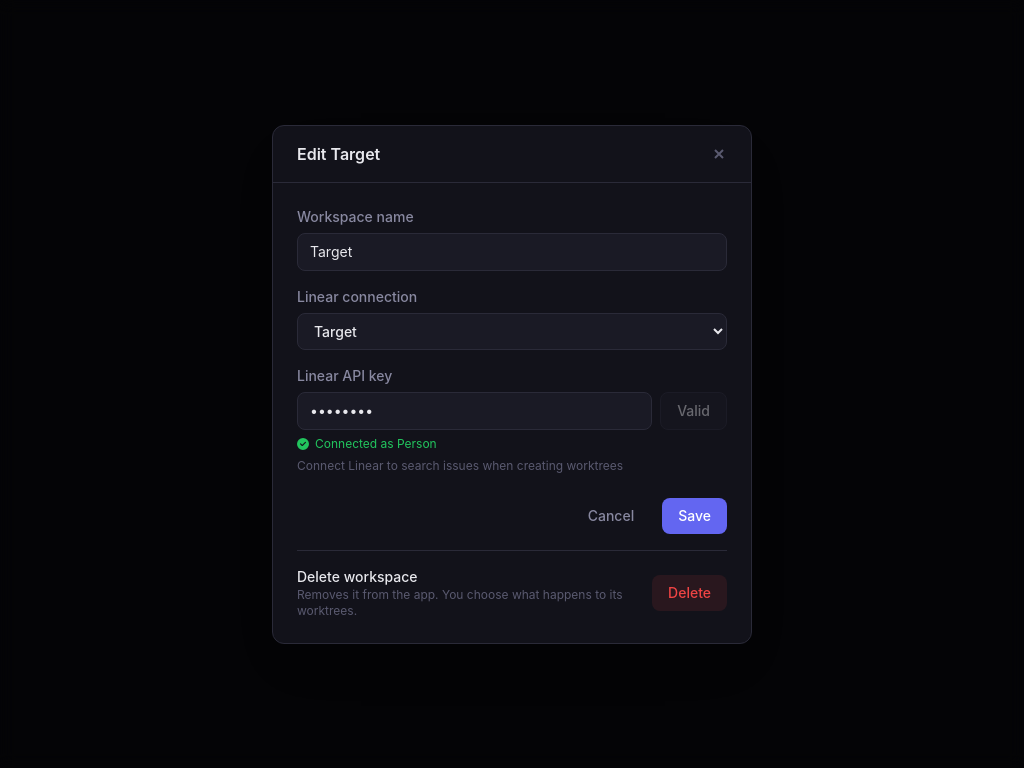
it: workspace Linear connections › does not save an invalid replacement
This screenshot has width=1024, height=768.
Select "my-org — Default, Source" in the dropdown at (512, 331), box [297, 312, 727, 350]
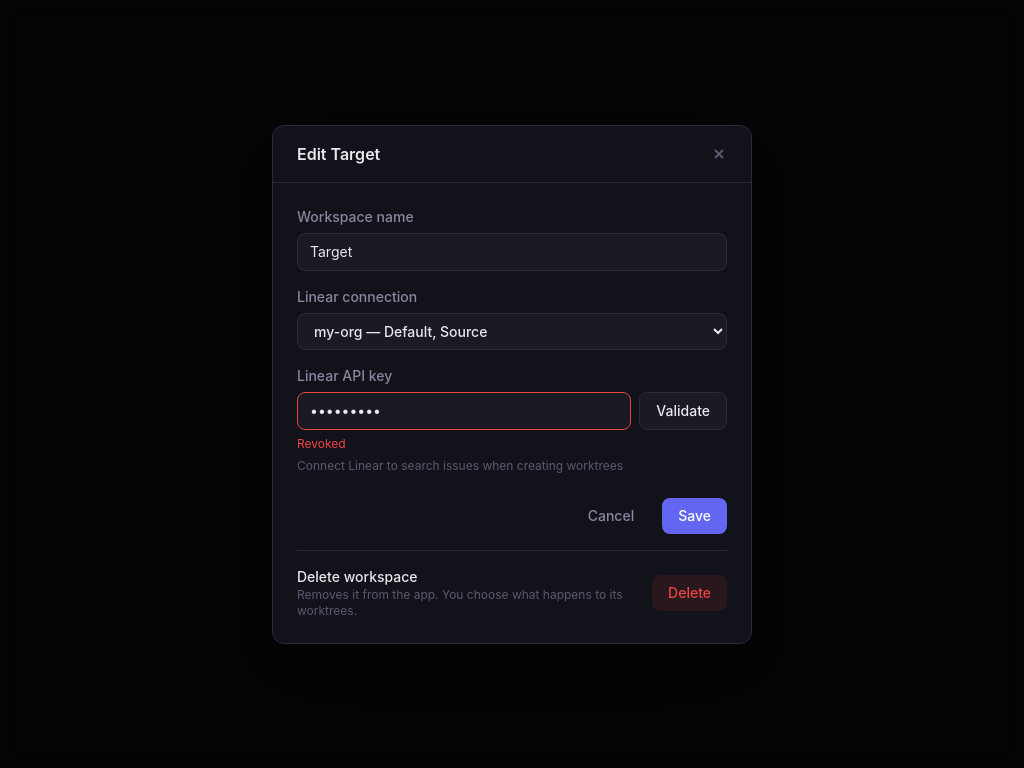
Click the button "Save" at (695, 516), box [662, 498, 727, 534]
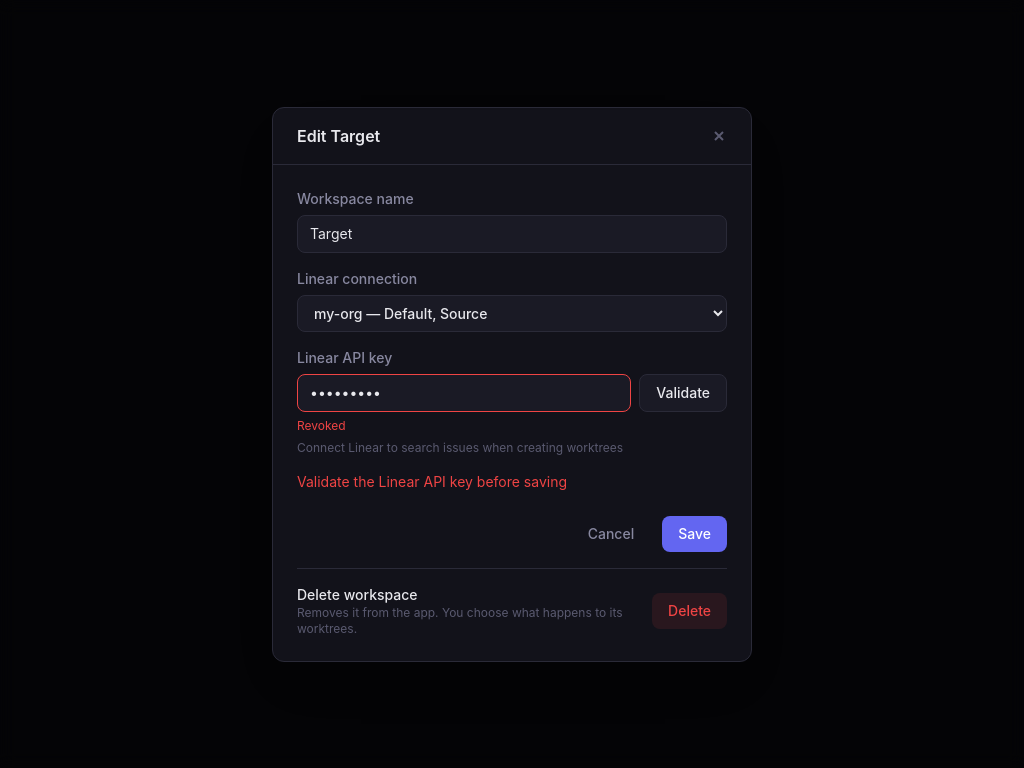
Check: the text "Validate the Linear API key before saving" is shown, box [297, 472, 567, 490]
